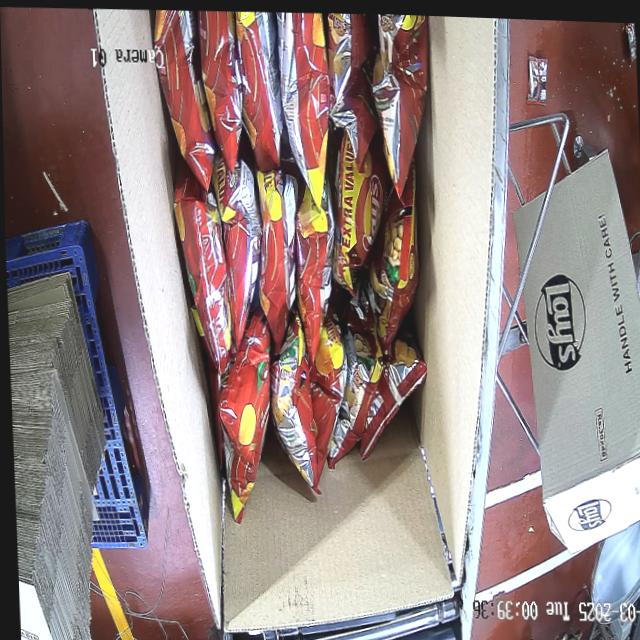MASALA: (150, 6, 446, 530)
